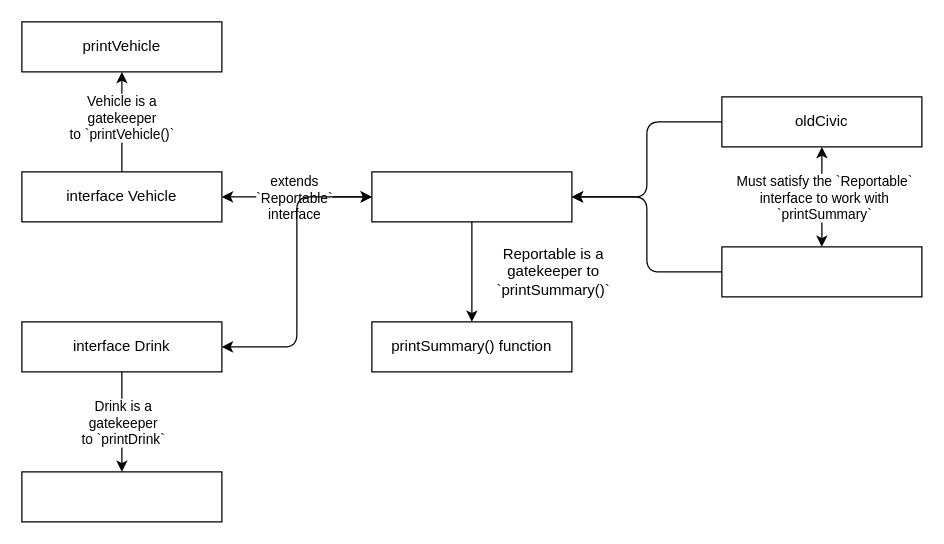
The diagram is 944 pixels wide and 544 high, and some of its shapes have lost their labels. Here are the shapes that lost their labels. From the top down, the box of each, then its label:
(371, 171, 572, 222): Interface Reportable
(721, 246, 922, 297): drink
(21, 471, 222, 522): printDrink
